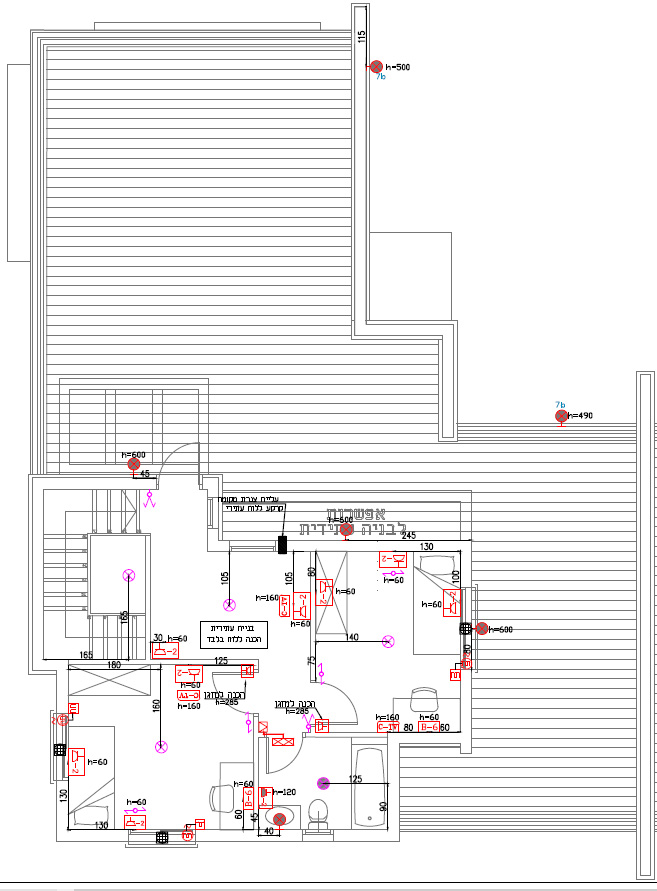door: (331, 679, 365, 730), (208, 668, 240, 721), (263, 748, 309, 776)
window: (229, 544, 276, 553), (302, 827, 333, 836)
